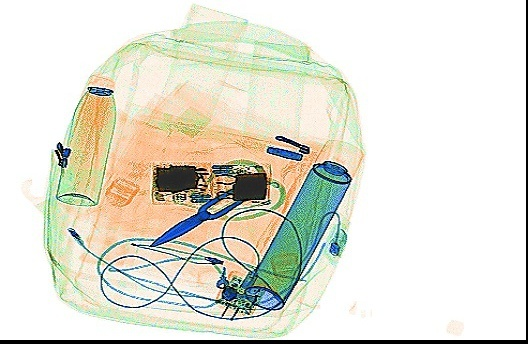pressure: (241, 136, 364, 312), (53, 72, 117, 208)
scissors: (148, 156, 286, 248)
